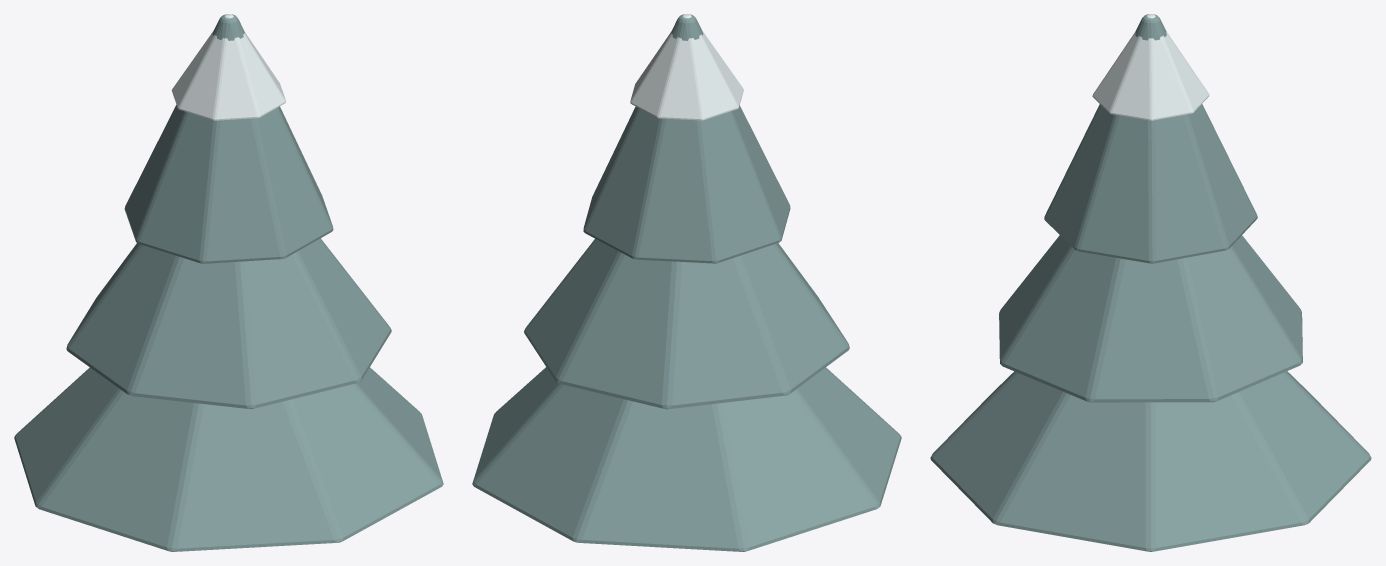
File: pine_tall.glb
The picture shows the model from 3 angles, left to right: view 1: azimuth 30°, elevation 25°; view 2: azimuth 150°, elevation 25°; view 3: azimuth 270°, elevation 25°; orthographic projection.
Parts seen in each view (by area): view 1: Surface_PineNeedle, Surface_Snow; view 2: Surface_PineNeedle, Surface_Snow; view 3: Surface_PineNeedle, Surface_Snow.
Boxes of the visible parts, bbox=[...] form: Surface_PineNeedle: bbox=[14, 14, 443, 551]; Surface_Snow: bbox=[171, 14, 285, 120]; Surface_PineNeedle: bbox=[472, 14, 901, 551]; Surface_Snow: bbox=[630, 14, 743, 120]; Surface_PineNeedle: bbox=[930, 14, 1371, 551]; Surface_Snow: bbox=[1092, 14, 1209, 120].
Size of the model in its own units: 2.79 by 3.4 by 2.79.
